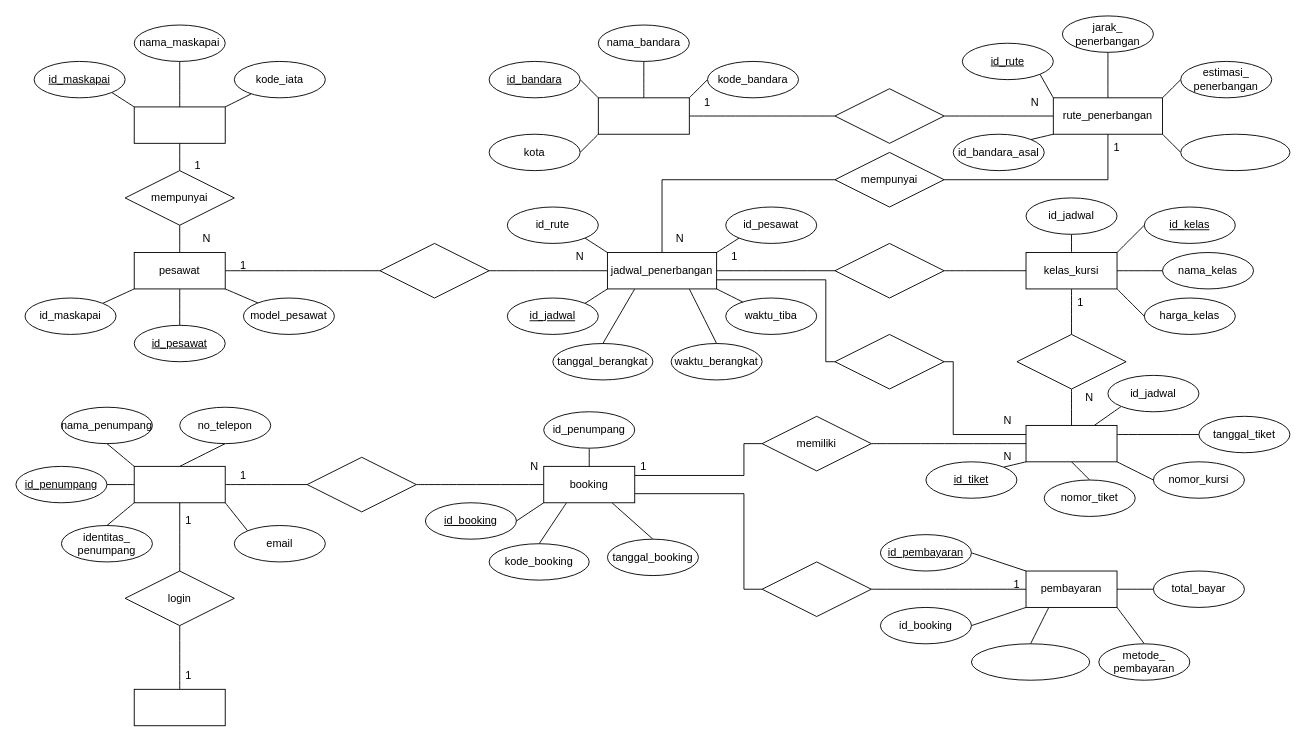
Image size: 1306x742. Some labels were removed from this diagram. Here are the shapes that lost their labels. From the top down, the centre of each, then its label:
point 179,124: Maskapai
point 643,115: bandara
point 889,115: asal/tujuan
point 1235,152: id_bandara_tujuan
point 434,270: mengoperasikan
point 889,270: menyediakan
point 889,361: dipesan_pada
point 1071,361: dipilih_pada
point 1071,443: tiket
point 179,484: penumpang
point 361,484: melakukan
point 816,589: dibayar_dengan
point 1030,661: tanggal_pembayaran
point 179,707: user
